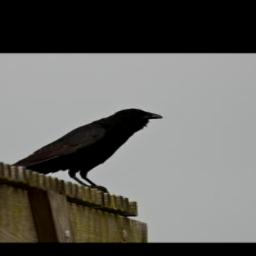Crow: (9, 107, 162, 194)
